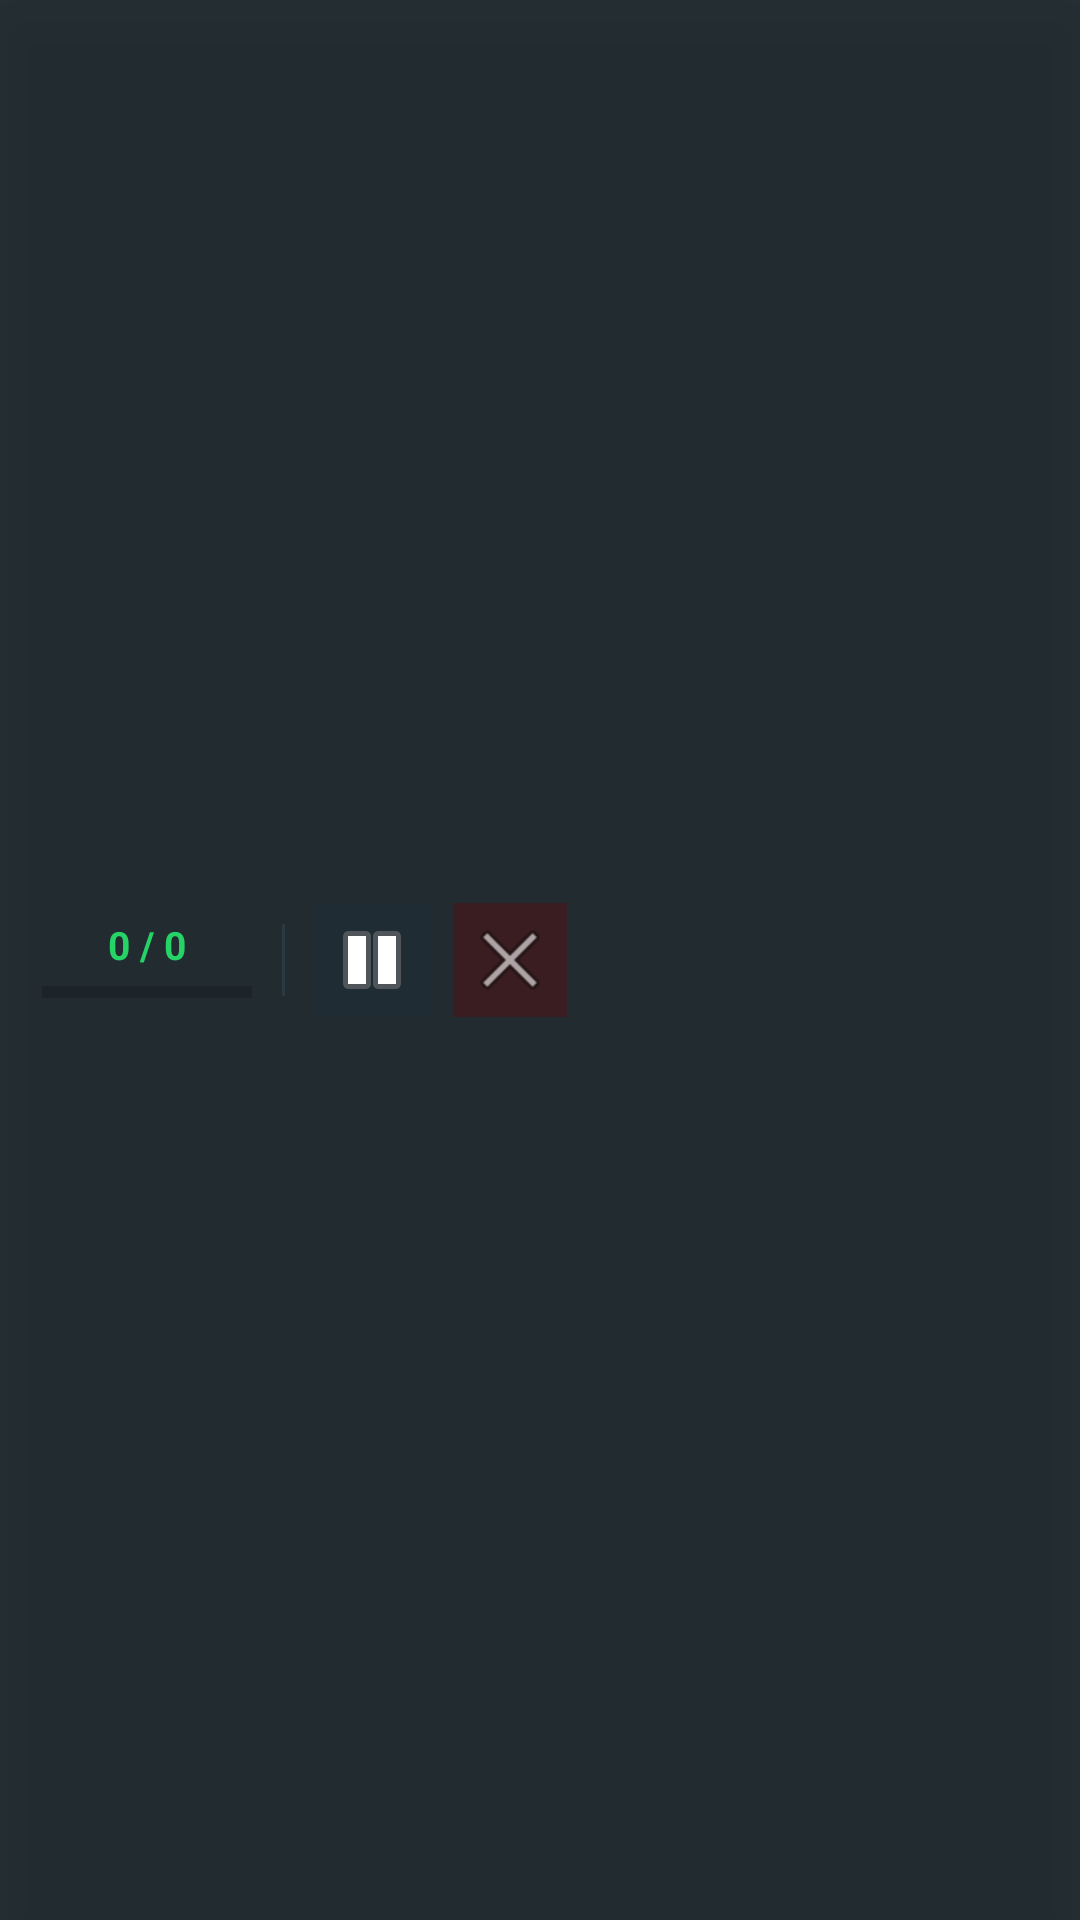

Point at icon controls on the screen. Image size 1080 x 1920, points as (x,y).
Cancel Campaign: (510,960)
Pause or Resume: (372,960)
